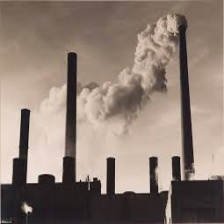smoke: (78, 10, 183, 126)
